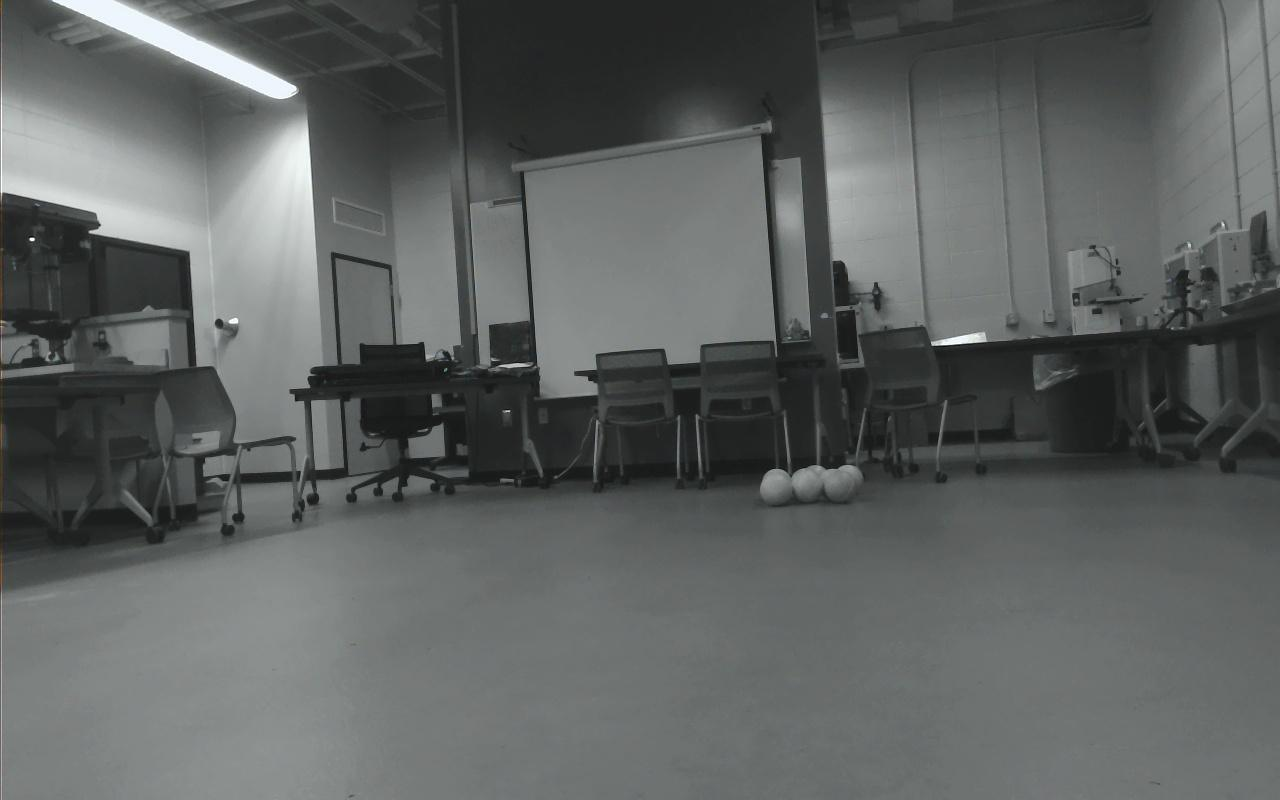Fuel: (823, 468, 856, 503), (760, 474, 792, 506), (791, 470, 822, 503), (833, 465, 864, 496), (761, 472, 791, 500), (791, 468, 819, 496), (819, 468, 846, 496), (762, 468, 791, 493), (803, 465, 827, 486)
